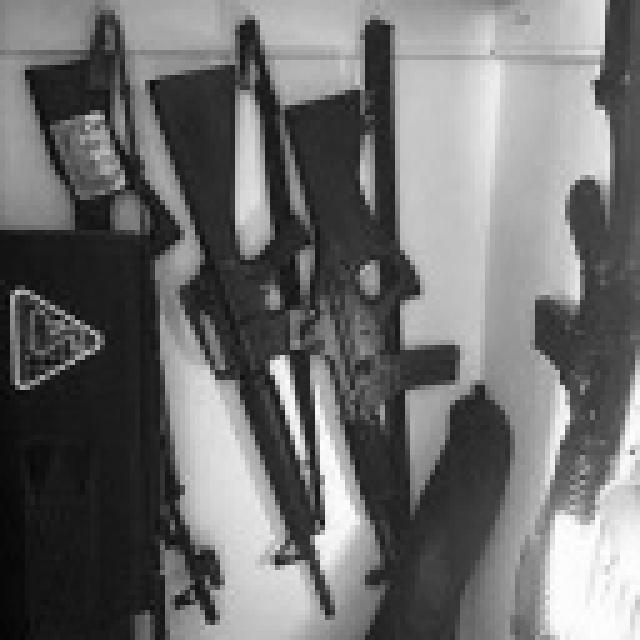Rifle: (0, 0, 234, 640), (102, 73, 366, 631), (251, 4, 480, 615), (520, 0, 640, 640)
